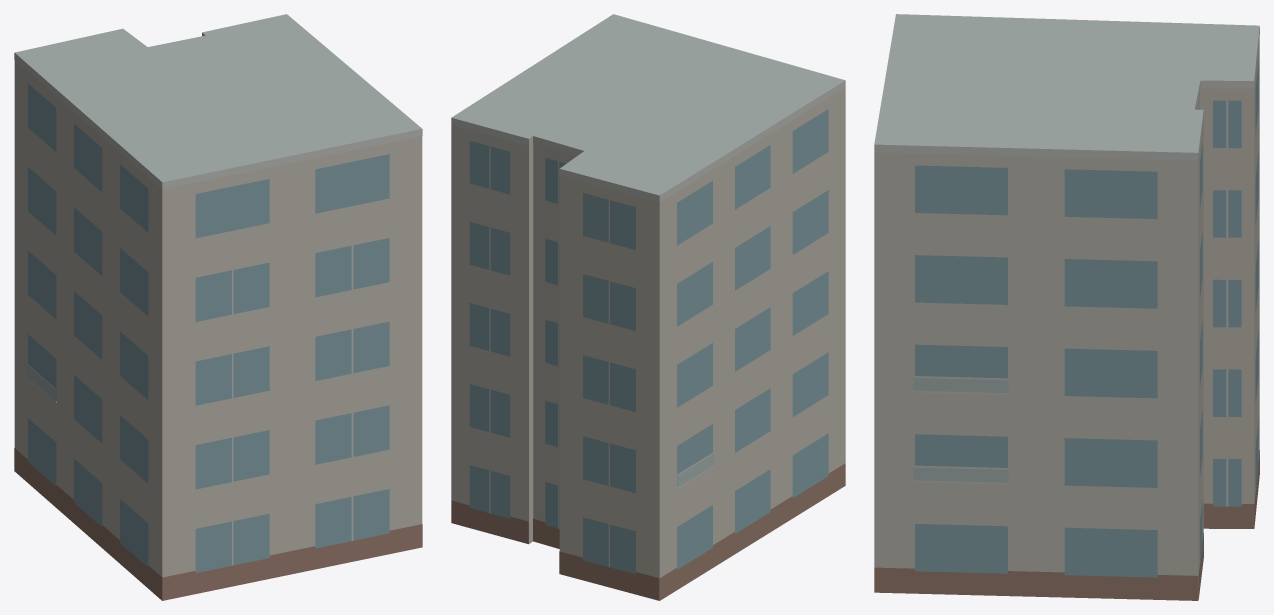
The model's file is survey-upis-32458925.glb.
3 renders of one model, left to right at view 1: azimuth 30°, elevation 25°; view 2: azimuth 150°, elevation 25°; view 3: azimuth 270°, elevation 25°, orthographic. The views are drawn at different scales.
Visible parts, largest first — view 1: survey-upis-32458925.tmp; view 2: survey-upis-32458925.tmp; view 3: survey-upis-32458925.tmp.
Part boxes in pixels (left/top/right/bottom): survey-upis-32458925.tmp: left=14, top=14, right=422, bottom=600; survey-upis-32458925.tmp: left=451, top=14, right=845, bottom=600; survey-upis-32458925.tmp: left=874, top=14, right=1259, bottom=600.
Bounding box in the file's own units: 9.42 × 14.15 × 11.05.
